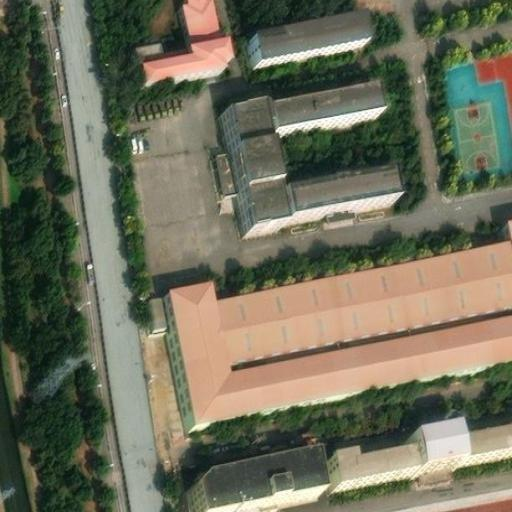building: (168, 215, 512, 411), (331, 414, 512, 481), (192, 445, 322, 511), (222, 98, 282, 228), (140, 0, 233, 76), (250, 11, 370, 59), (282, 168, 396, 216), (267, 84, 374, 130), (137, 34, 190, 56), (146, 289, 176, 326), (215, 142, 238, 190), (197, 499, 260, 512)
